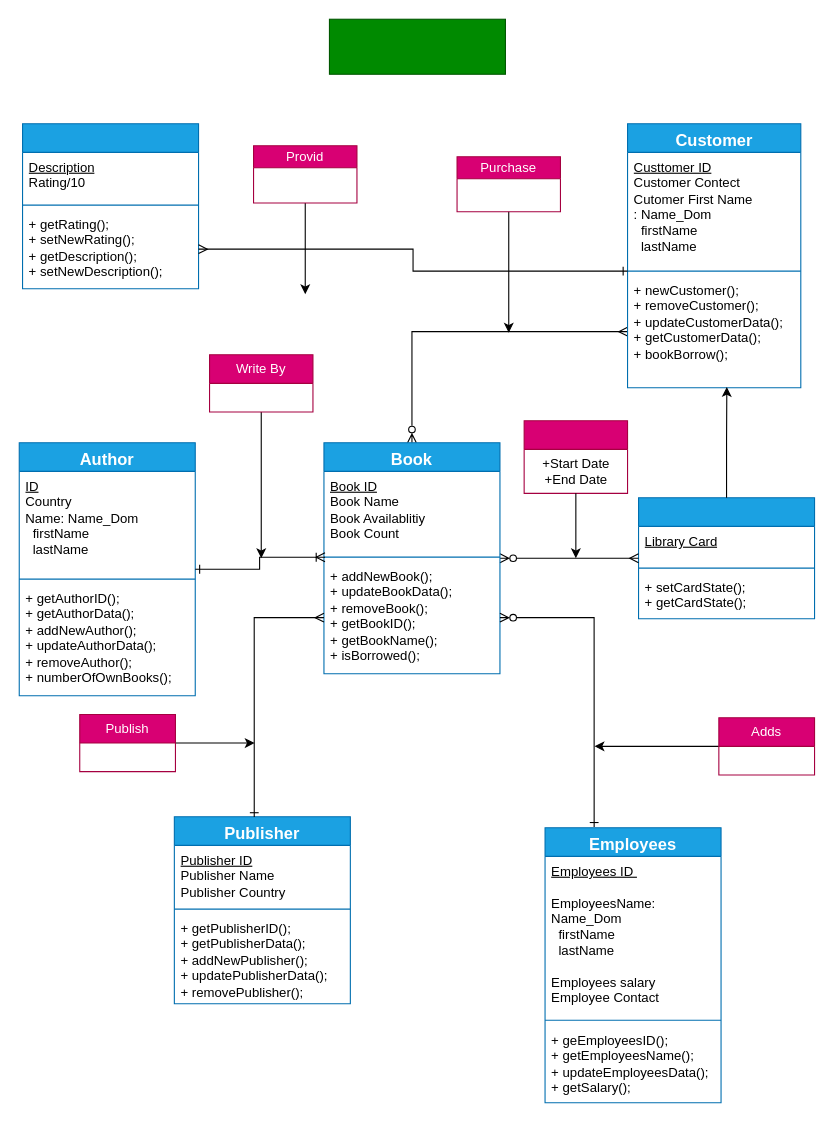
This 834x1125 diagram has some shape labels left out. Each missing label, with the box of its shape:
Borrows: (523, 420, 628, 493)
Feedback: (21, 123, 199, 289)
Member: (637, 497, 815, 619)
UML: (328, 18, 505, 74)
